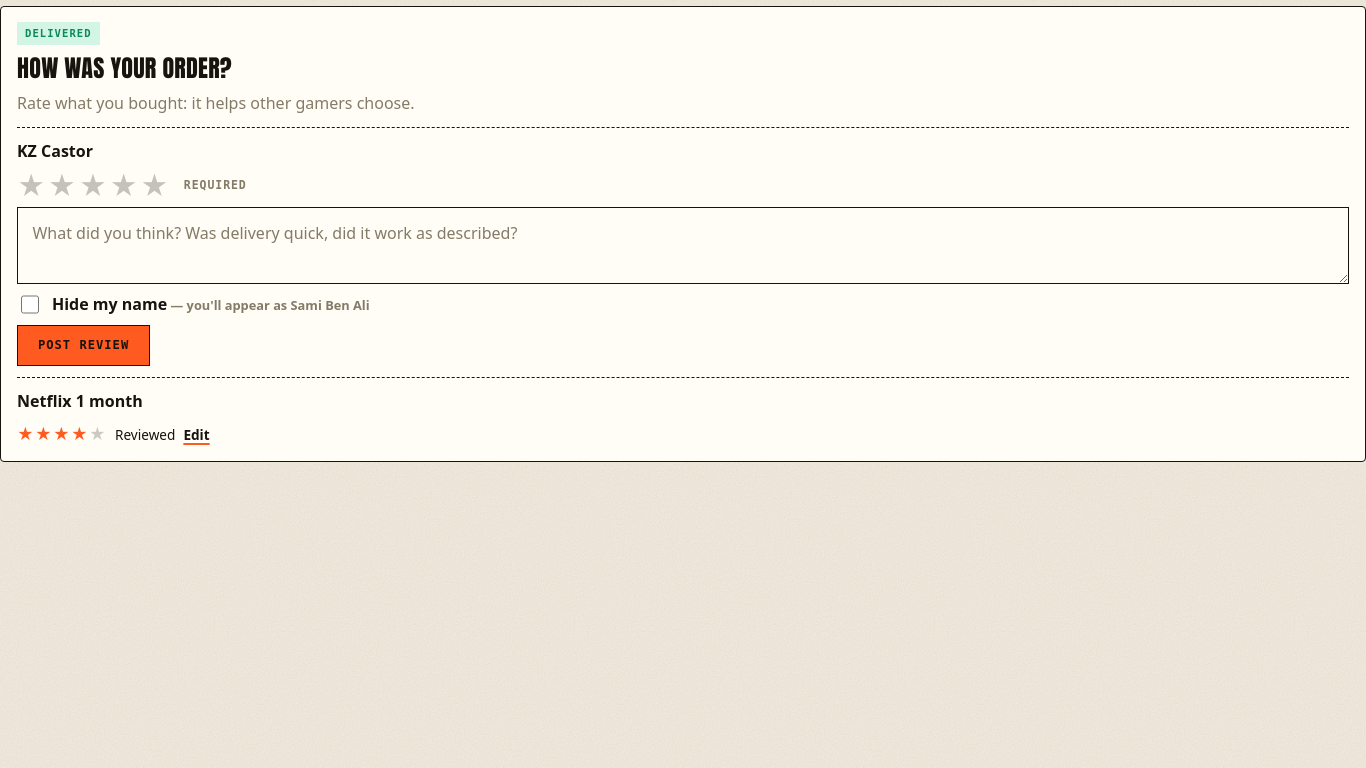
Test: ChatReviewCard › shows the server's error (for example: not a buyer)
Click the radio button named "rating-iem" at [93, 186], box x1=79 y1=172 x2=107 y2=199
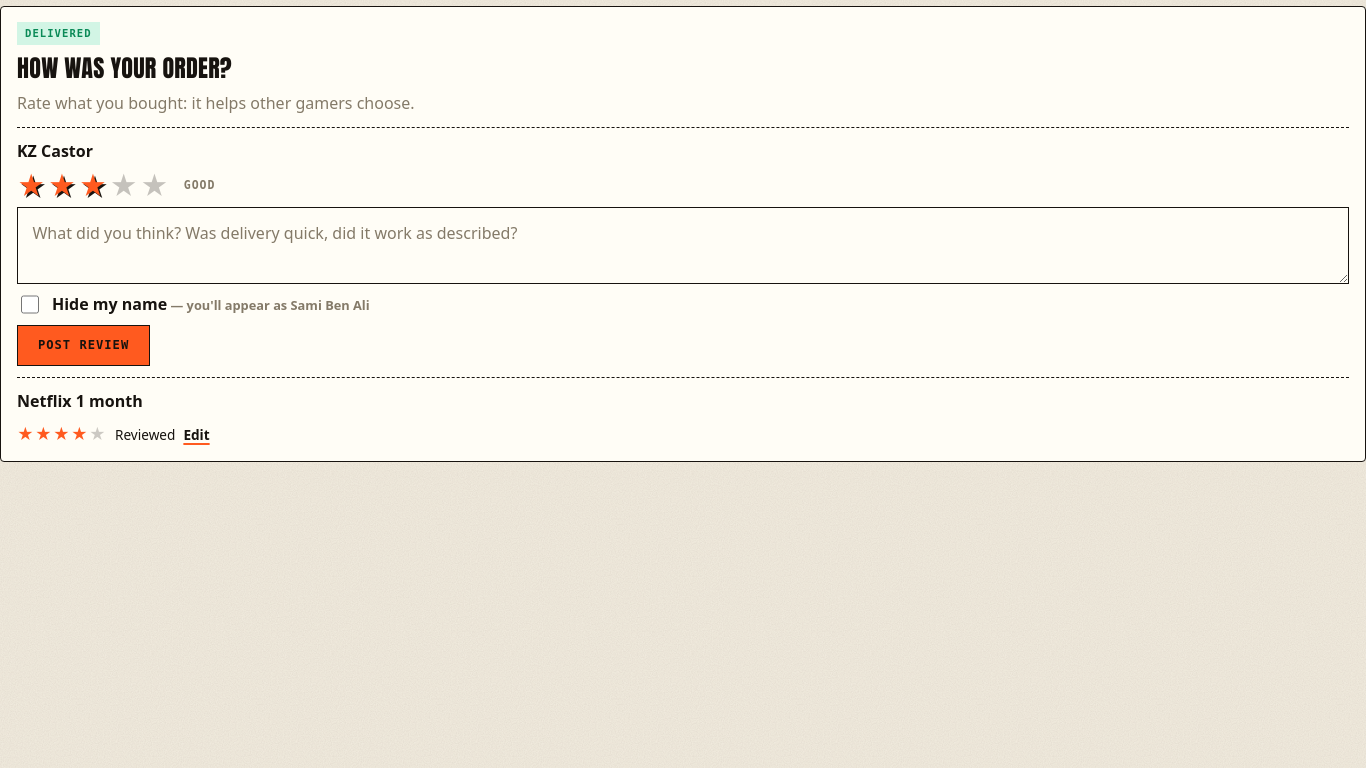
Click the button "Post review" at [84, 346], box x1=17 y1=325 x2=150 y2=366
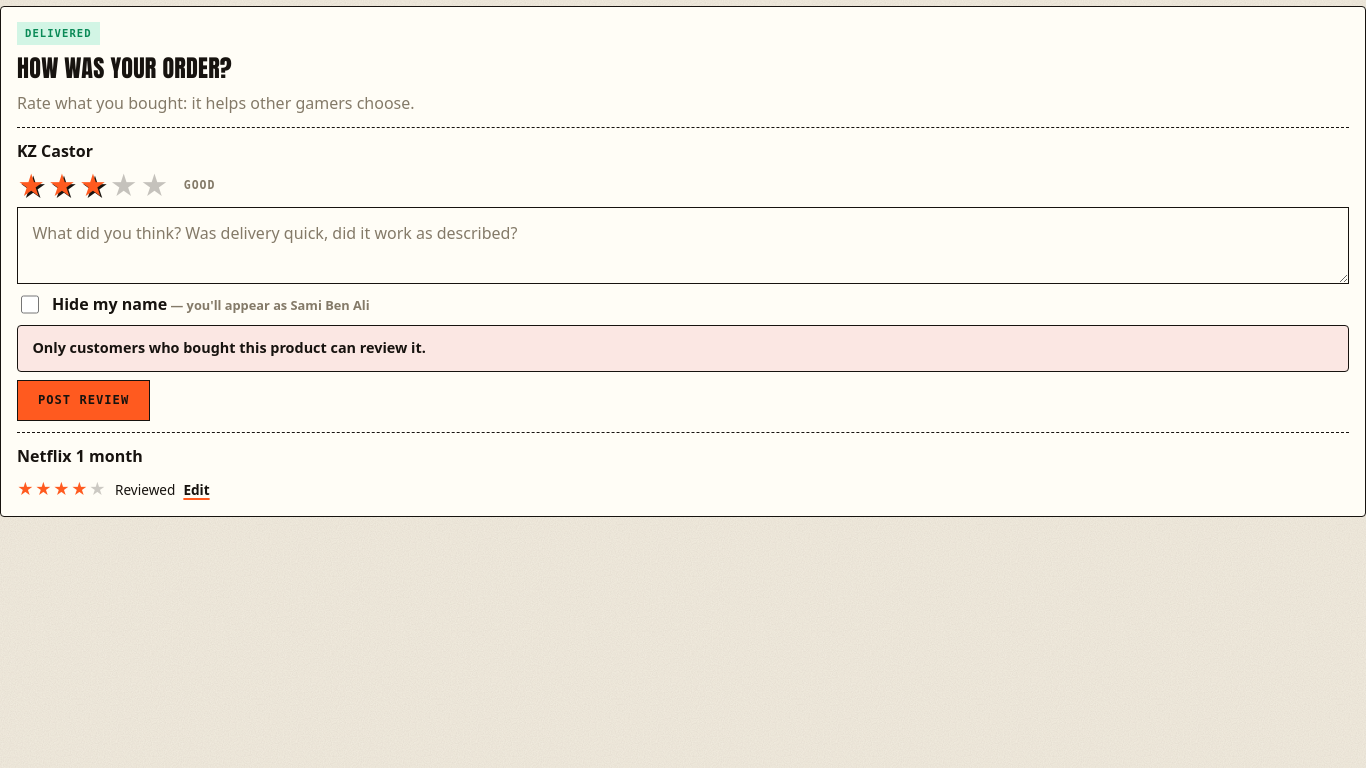
Result: the message shows "Only customers" at x1=32 y1=338 x2=426 y2=357
